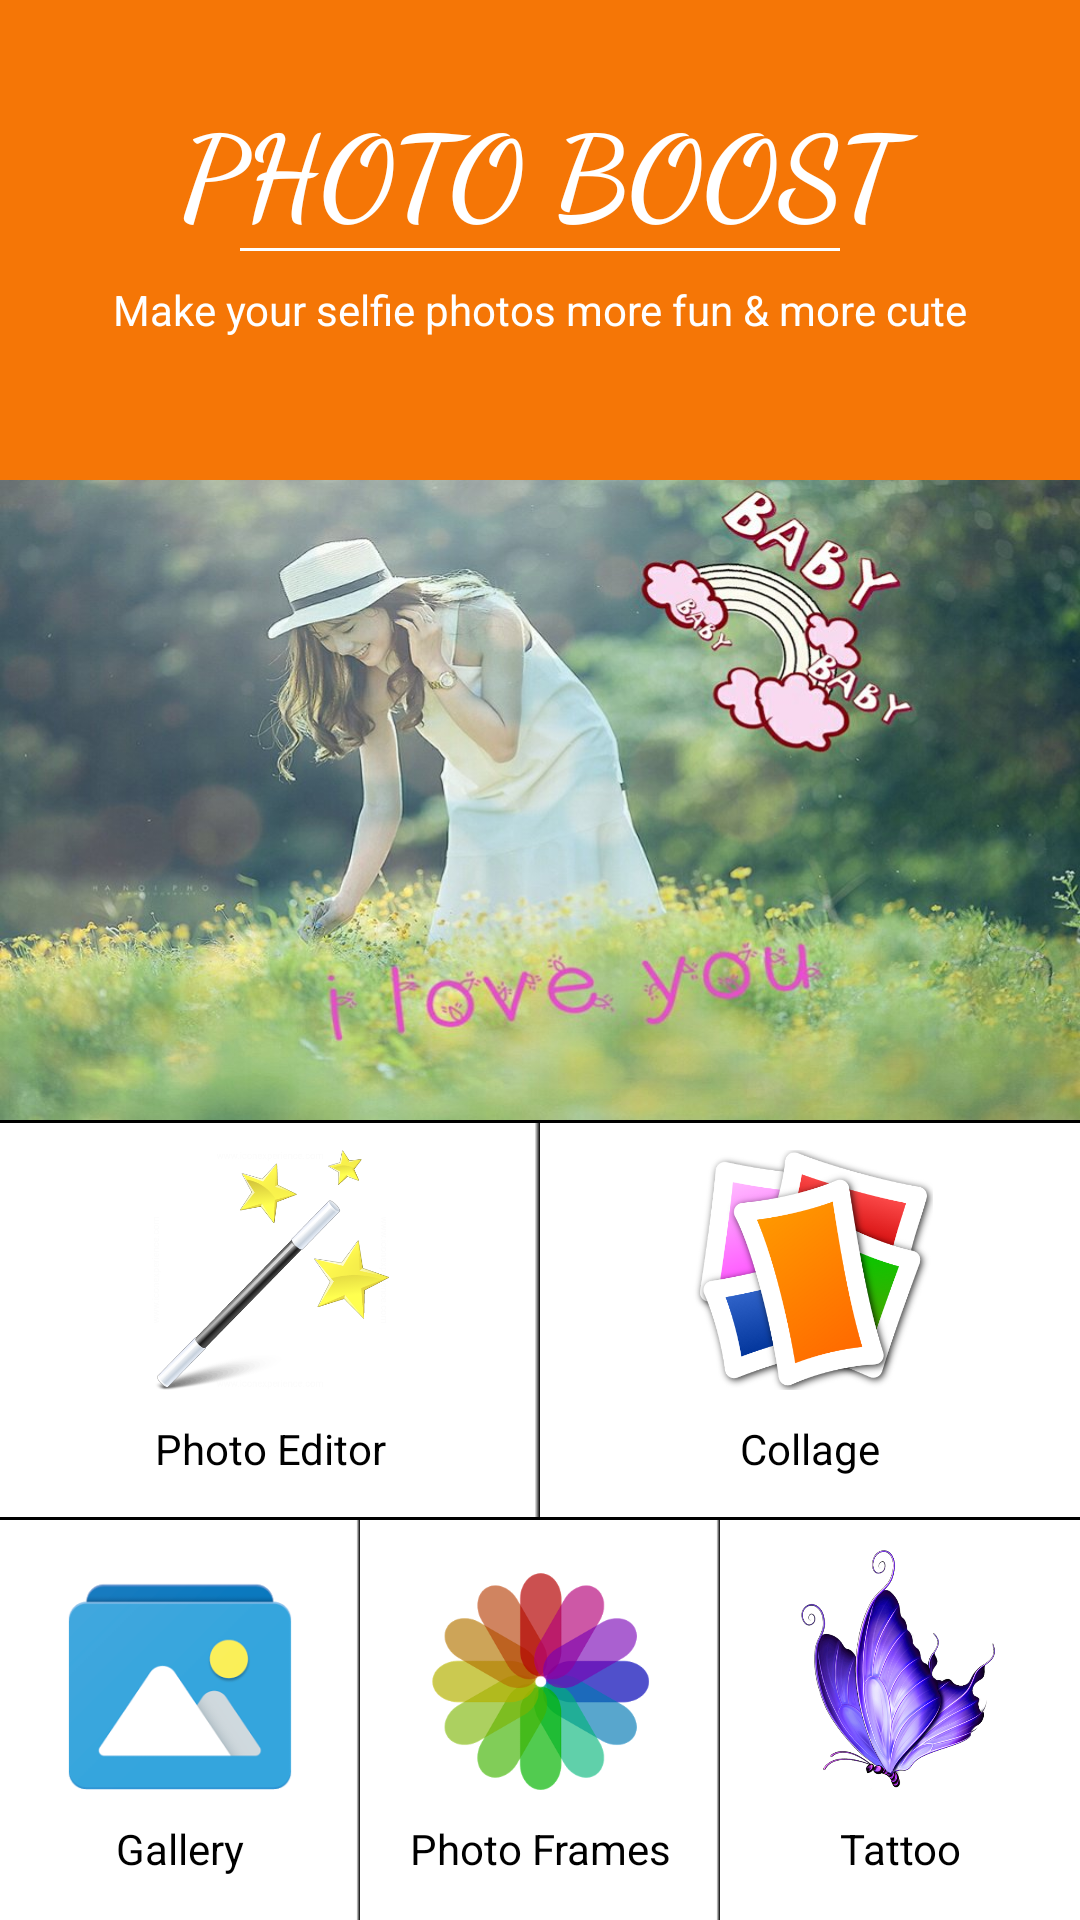

Screen size 1080 x 1920. Icon name, then its center in pixels as (x,y):
magic wand: (273,1269)
